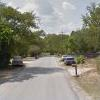Tree: (1, 3, 38, 76)
